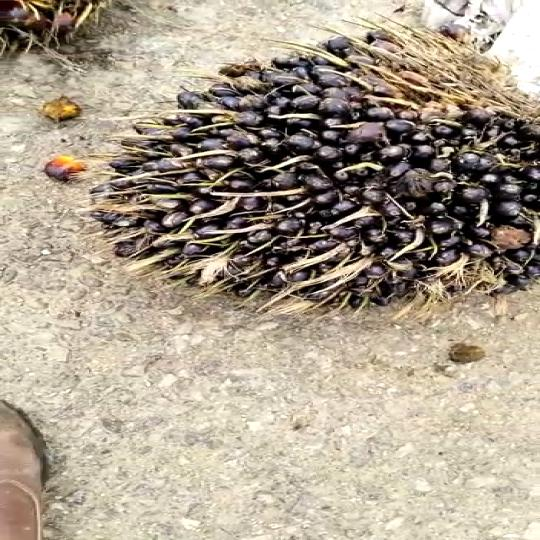mentah: (93, 28, 540, 318)
